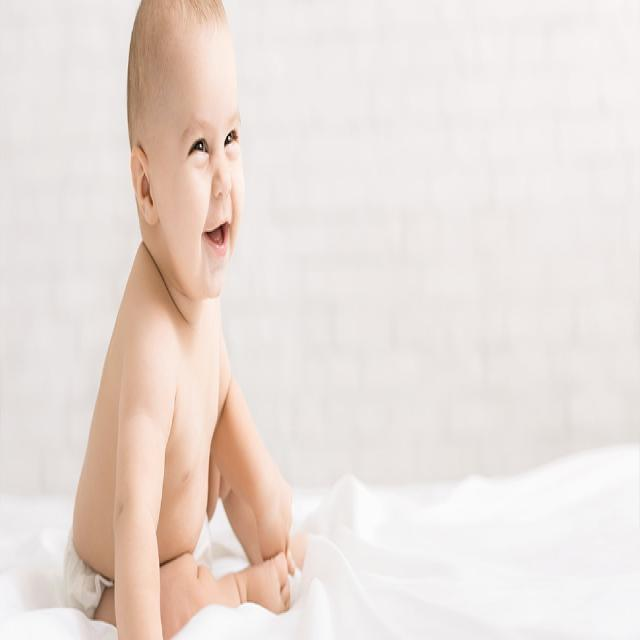child: (60, 0, 303, 640)
